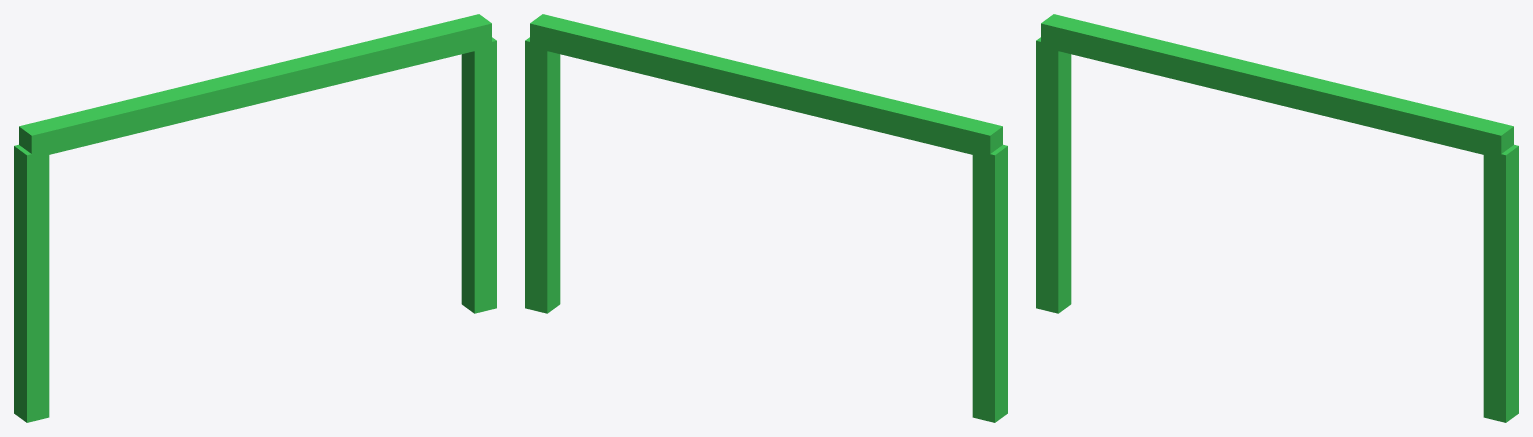
File: stagestart.glb
3 views of the same model, side by side, from view 1: azimuth 30°, elevation 25°; view 2: azimuth 150°, elevation 25°; view 3: azimuth 330°, elevation 25° (orthographic).
Parts seen in each view (by area): view 1: Post (×2), Crossbar; view 2: Post (×2), Crossbar; view 3: Post (×2), Crossbar.
Boxes of the visible parts, x1,y1,x2,y2 form: Post (×2): (14, 37, 496, 422); Crossbar: (19, 14, 491, 158); Post (×2): (525, 37, 1007, 422); Crossbar: (530, 14, 1002, 157); Post (×2): (1036, 37, 1518, 422); Crossbar: (1041, 14, 1513, 157).
Size of the model in its own units: 7.35 by 4.27 by 0.35.
